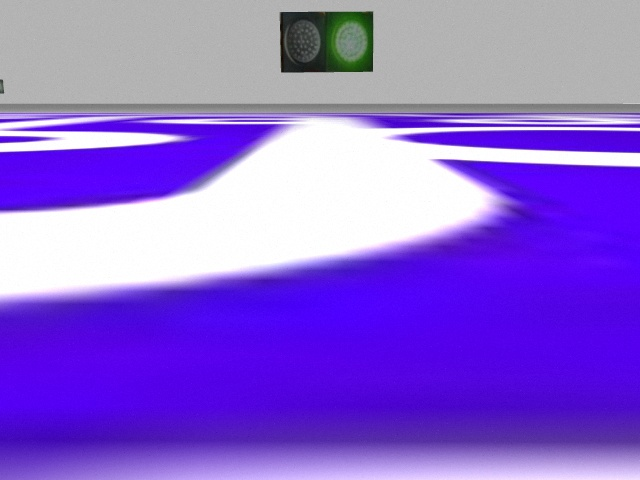green: (327, 10, 374, 74)
